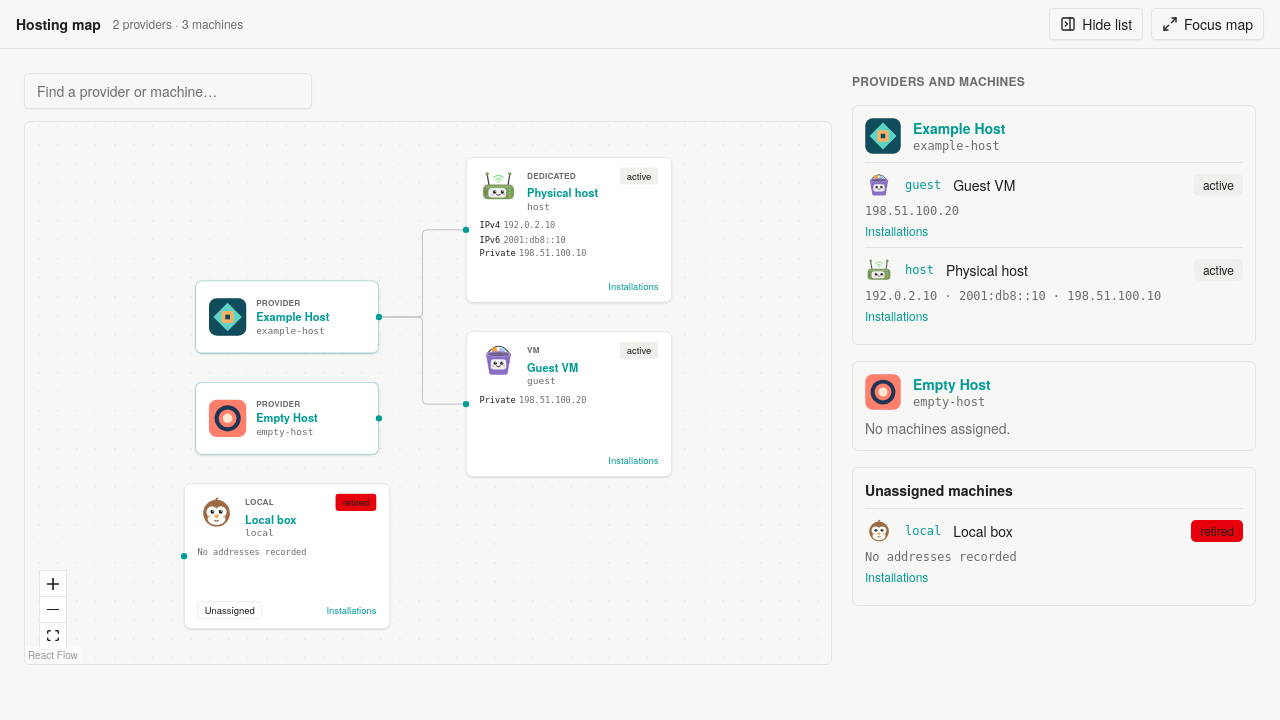
Test: gives the diagram a focus view and restores the ordinary layout on leaving it
The width and height of the screenshot is (1280, 720).
expect the element named "Provider to machine diagram" is shown: met, box [24, 121, 832, 665]
Click the button "Hide list" at (1096, 24), box [1049, 8, 1143, 40]
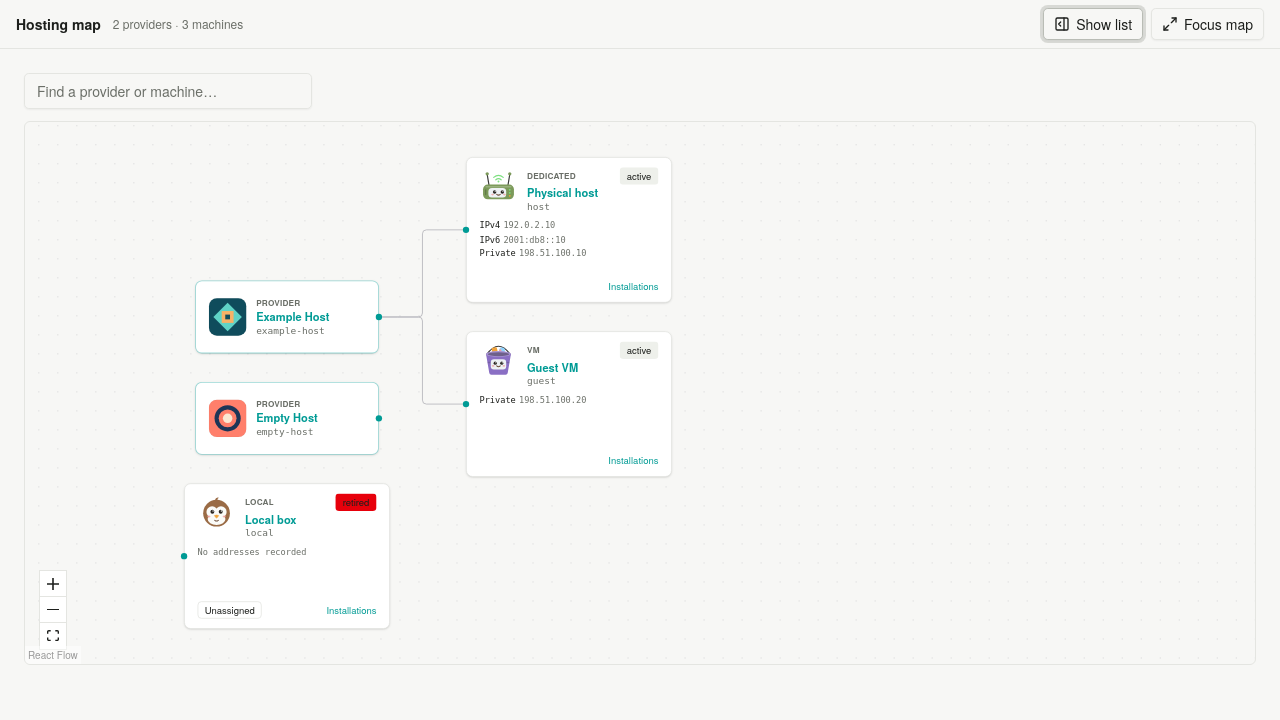
Click the button "Focus map" at (1208, 24), box [1151, 8, 1264, 40]
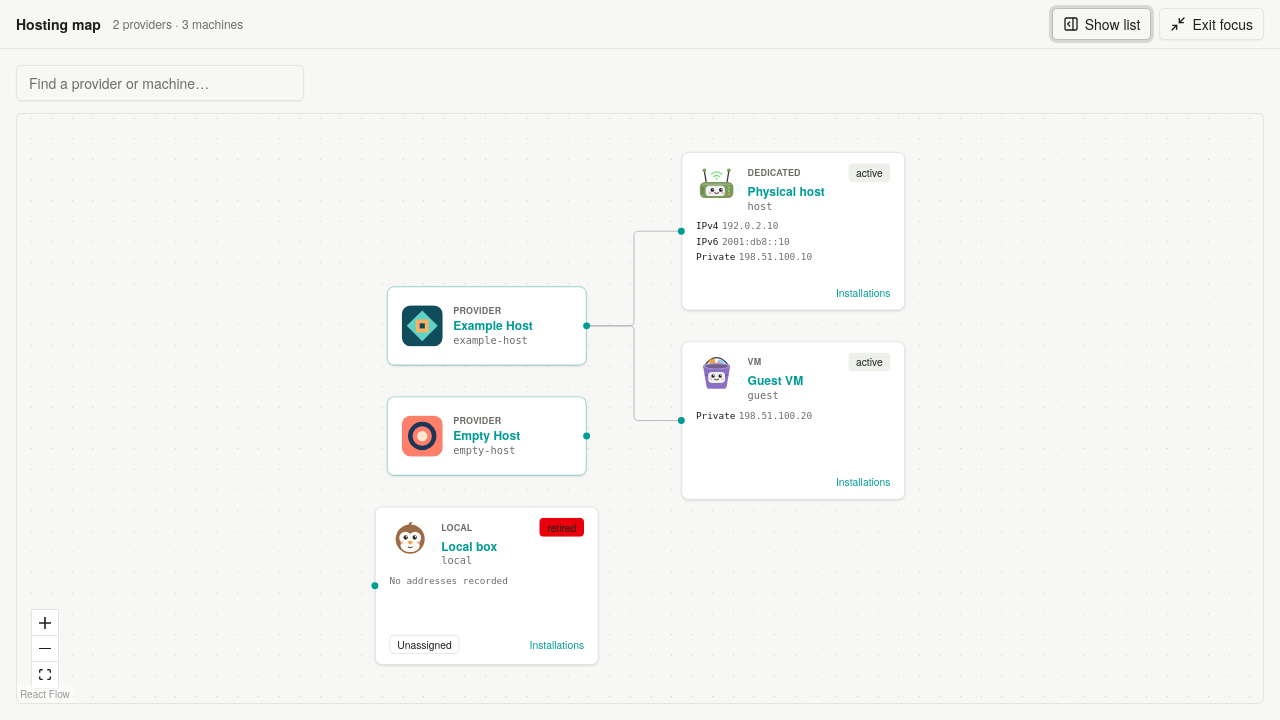
expect the search field labelled "Find a provider or machine" is shown: met, box [16, 65, 304, 101]
Click the button "Show list" at (1102, 24), box [1052, 8, 1151, 40]
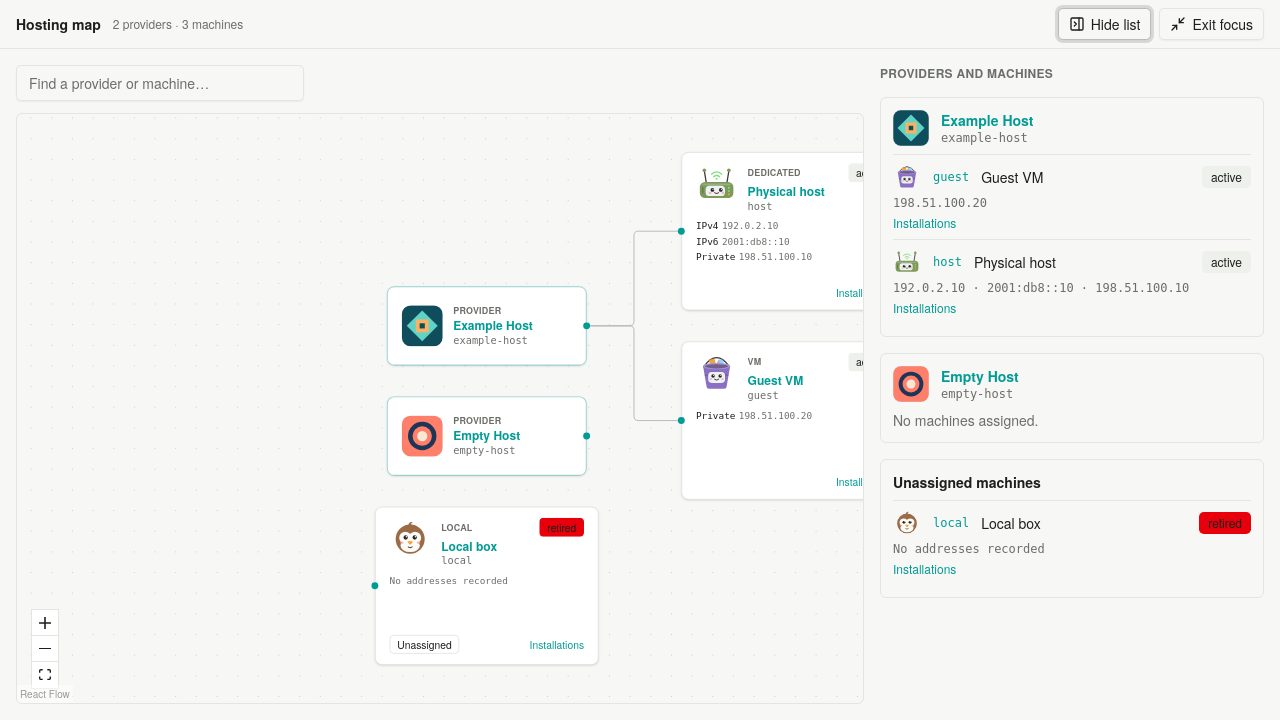
Click the button "Exit focus" at (1212, 24), box [1159, 8, 1264, 40]
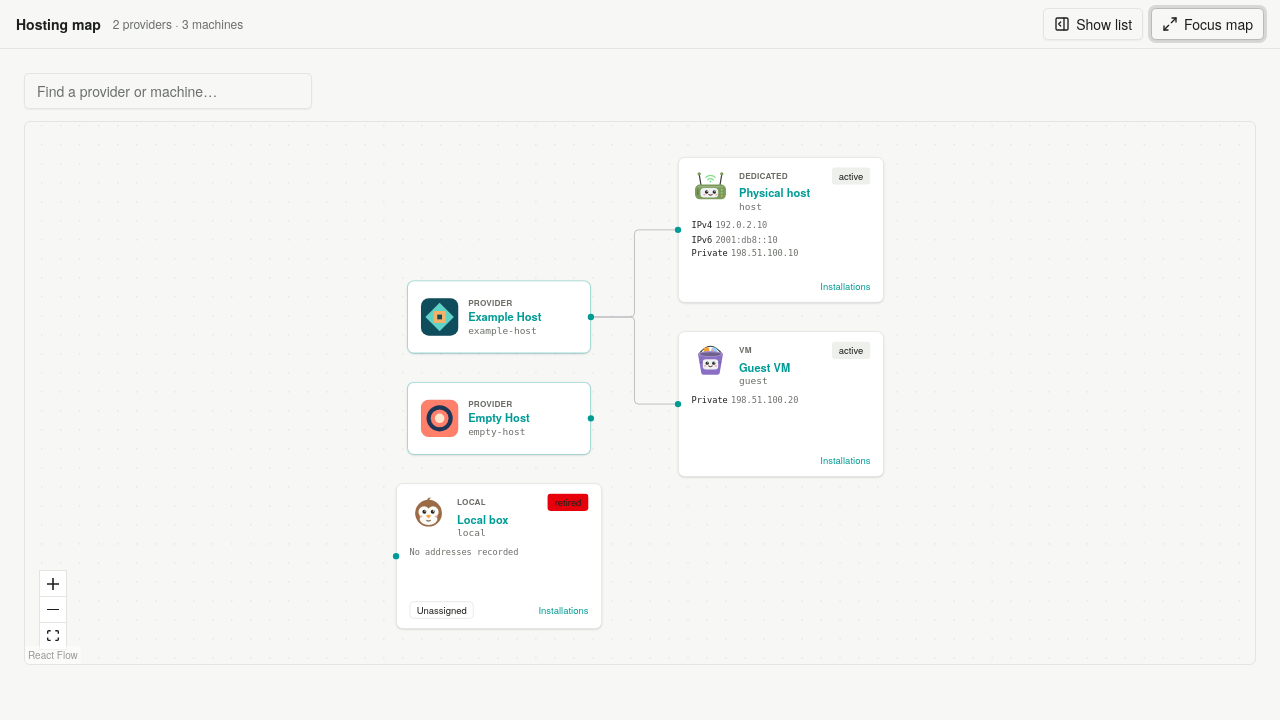
expect the button "Show list" is collapsed: met, box [1043, 8, 1143, 40]
expect the dialog is gone: met
